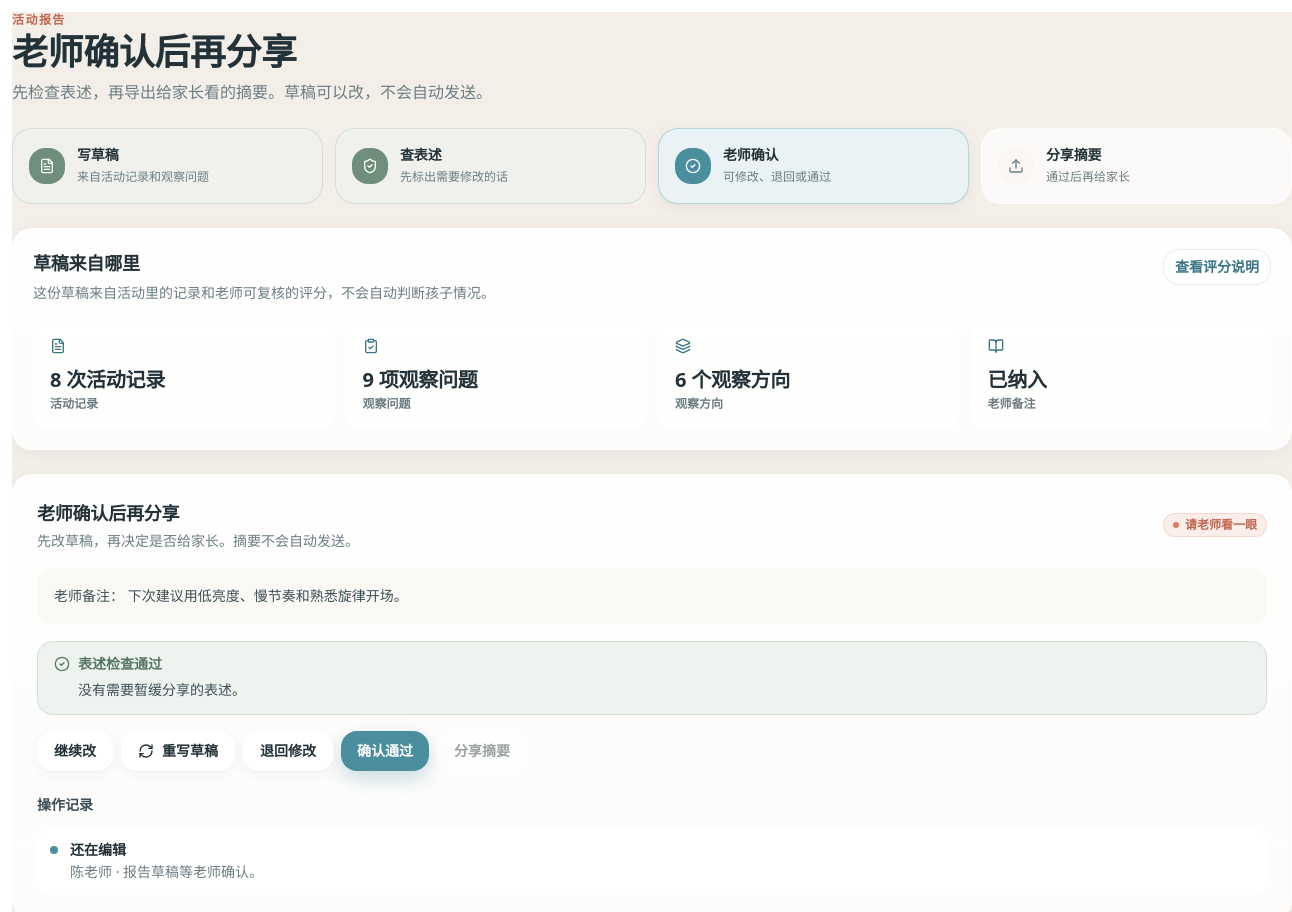
Test: core pages › approves a report and shows user-facing audit copy
The image size is (1292, 912).
Expected: the heading "老师确认后再分享" below "活动报告" is shown, [12, 27, 296, 76]
Expected: the text "先检查表述，再导出给家长看的摘要。草稿可以改，不会自动发送。" is shown, [12, 81, 492, 103]
Click the button "确认通过". click: (385, 751)
box: [341, 731, 429, 771]
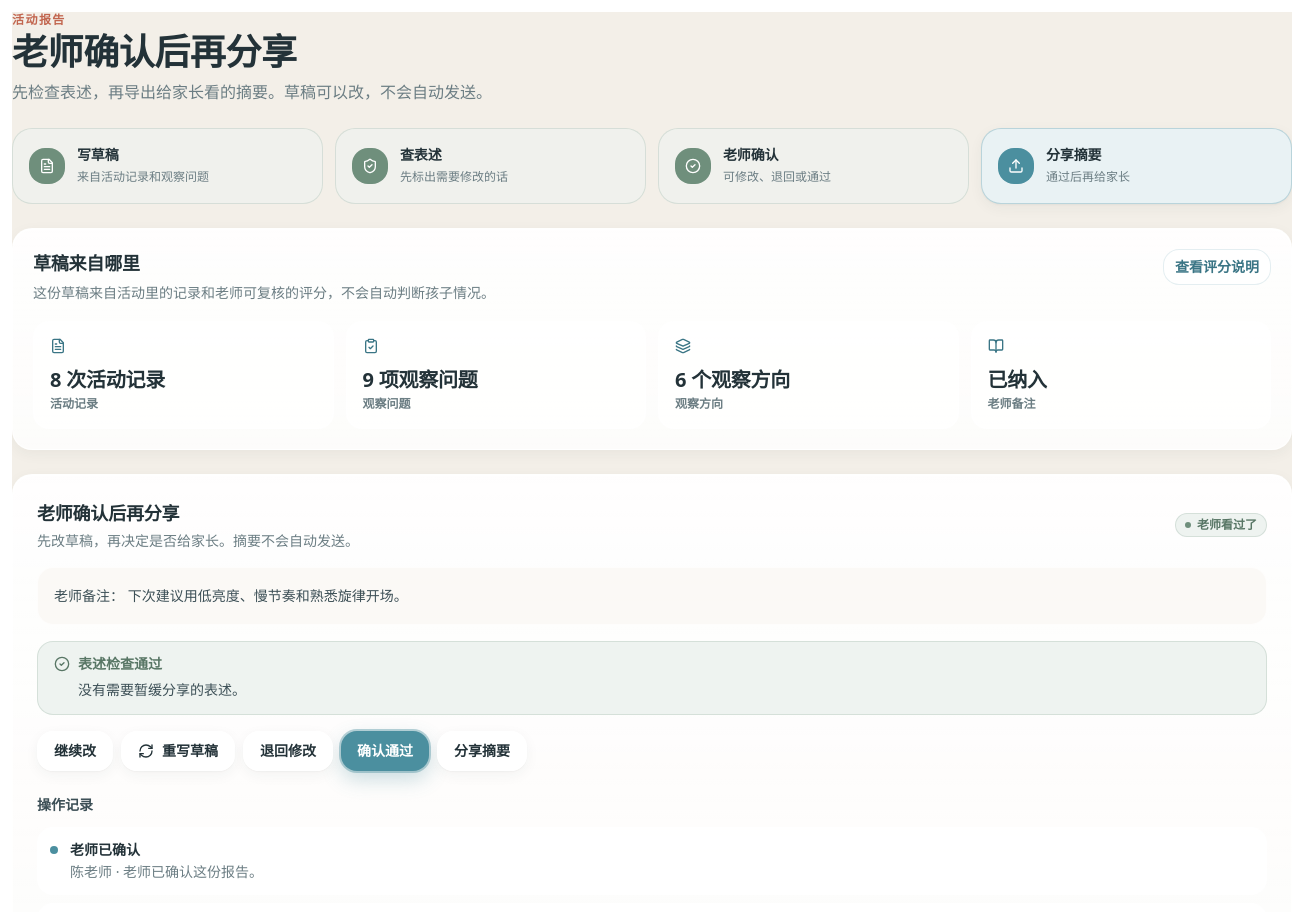
Expected: the text "老师看过了" is shown, [1175, 513, 1267, 537]
Expected: the text "老师已确认" is shown, [70, 840, 140, 859]
